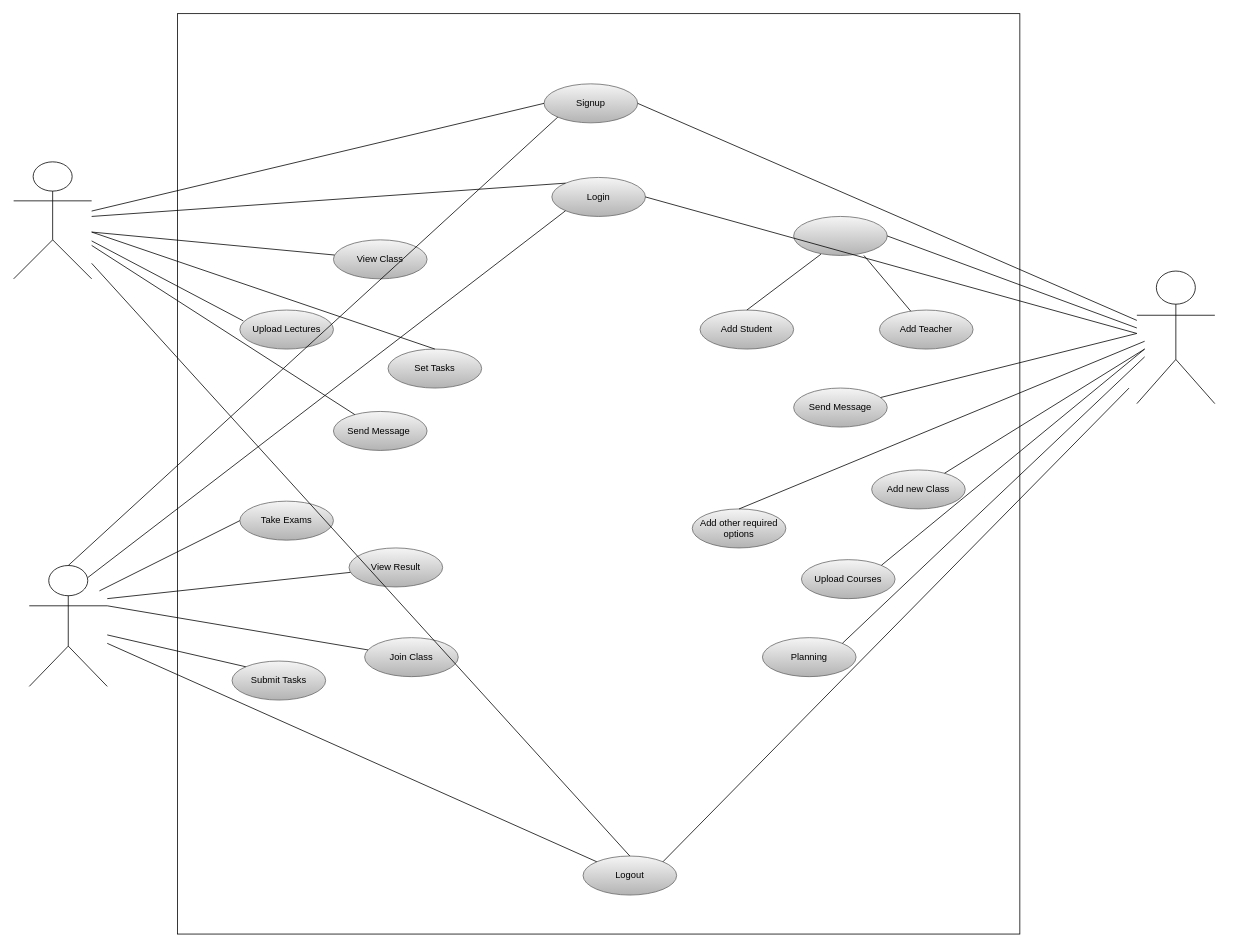
The diagram is 1234 pixels wide and 948 high, and some of its shapes have lost their labels. The centre of each missing label's shape, as x and y in pixels:
"Administration" goes at (1175,337).
"Enter User Details" goes at (840,235).
"Instructor" goes at (52,220).
"Student" goes at (67,625).
